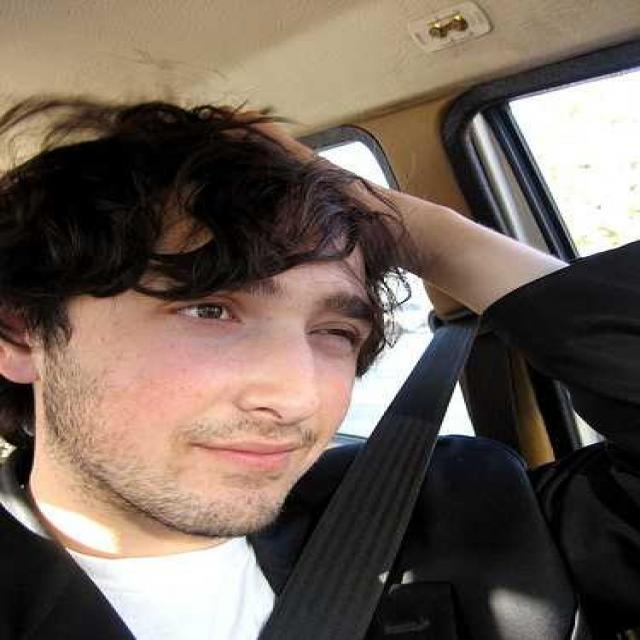seatbelt: (285, 265, 507, 590)
